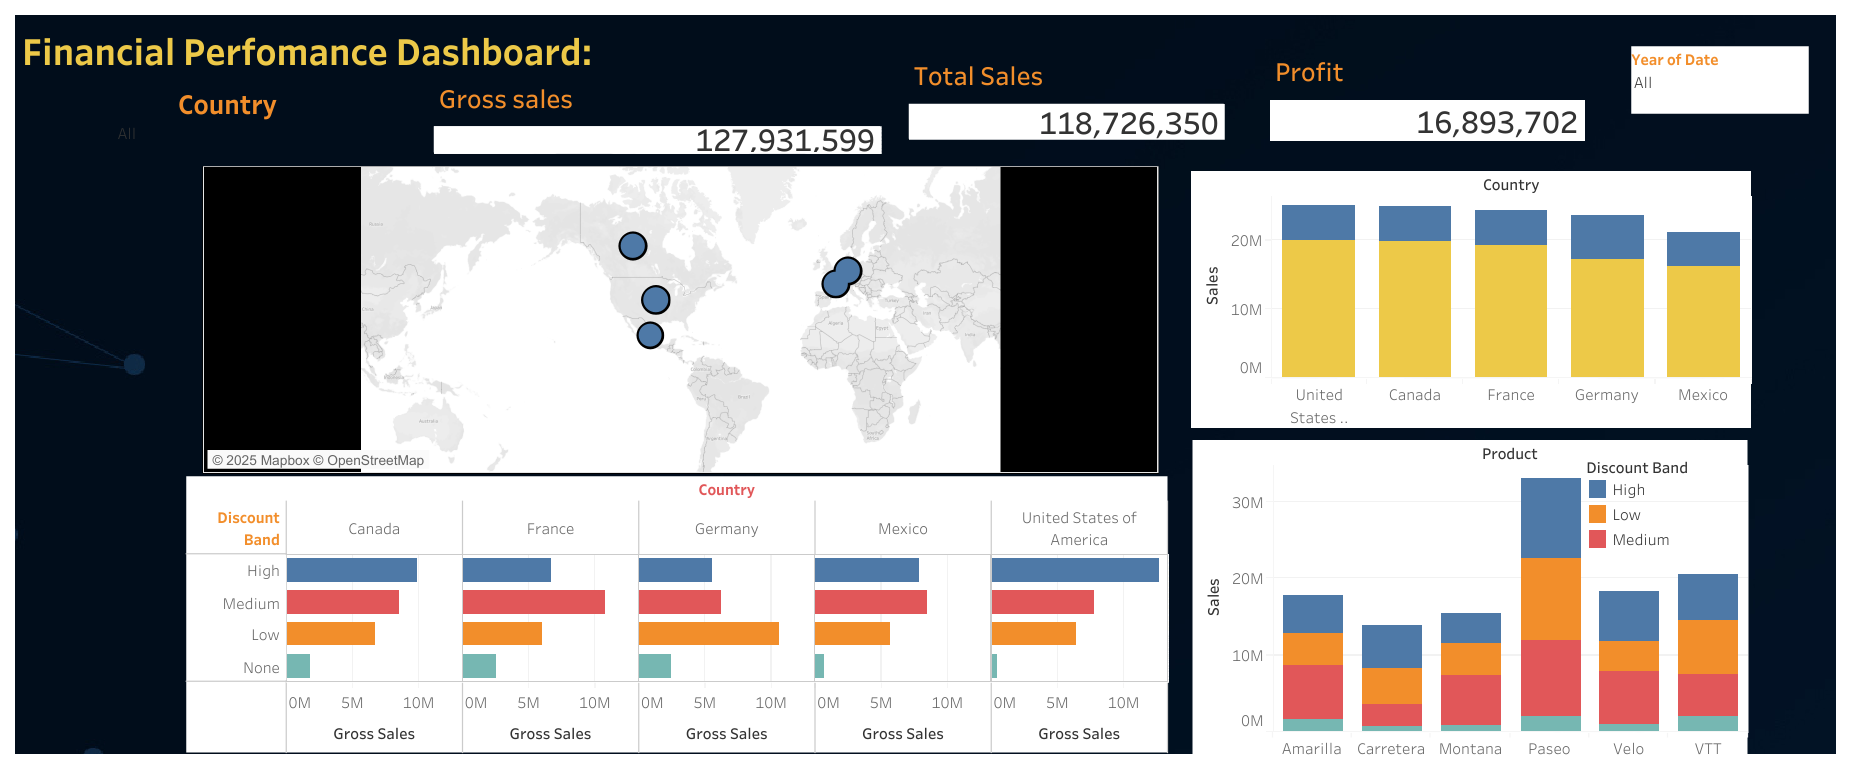

Layout of this report page (visuals, bound fields, positions):
{"tool":"tableau","page":{"name":"Dashboard 1","canvas":[1000,1000],"units":"permille","ordinal":0},"visuals":[{"type":"image","param":"C:/Users/vbhas/Downloads/Lovepik_com-[number redacted]-gorgeous-high-tech-picture.jpg","box":[4.9,10.7,990.2,978.6]},{"type":"text","box":[10.3,12.5,704.3,103.6]},{"type":"worksheet","title":"Sheet 8","mark":"Automatic","box":[686.1,60.2,169.5,121.8]},{"type":"filter","title":"Sheet 1","param":"[federated.129s4ta1b4m01t0zv5n3a1f70xaq].[yr:Date:ok]","box":[880.8,60.2,96.4,88.4]},{"type":"worksheet","title":"Total Sales","mark":"Automatic","box":[490.8,65.6,170.2,115.1]},{"type":"worksheet","title":"Sheet 6","mark":"Automatic","box":[234,93.7,241.4,104.4]},{"type":"filter","title":"Sheet 1","param":"[federated.129s4ta1b4m01t0zv5n3a1f70xaq].[none:Country:nk]","box":[62,108.4,122.2,93.7]},{"type":"worksheet","title":"Sheet 5","mark":"Automatic","box":[109.3,215.5,516.6,400.3]},{"type":"worksheet","title":"Sheet 1","mark":"Automatic","rows":["Sales"],"cols":["Country"],"box":[643.7,223.6,302.2,333.3]},{"type":"worksheet","title":"Sheet 4","mark":"Automatic","rows":["Sales"],"cols":["Product"],"box":[644.4,571.6,300.4,415]},{"type":"legend","title":"Sheet 4","param":"[federated.129s4ta1b4m01t0zv5n3a1f70xaq].[none:Discount Band:nk]","box":[856.3,589,84.2,132.5]},{"type":"worksheet","title":"Sheet 3","mark":"Bar","rows":["Discount Band"],"cols":["Country","Gross Sales"],"box":[100.7,619.8,530.7,361.4]}]}

Visuals, with their boxes on the dashboard's canvas, which has no fixed pixel size, in thousandths of its width and height (x1, y1, x2, y2). These are canvas units, not pixel positions in the 1850x768 screenshot, which may show the page scaled, cropped or inside an application window:
image: {"x1": 5, "y1": 11, "x2": 995, "y2": 989}
text: {"x1": 10, "y1": 12, "x2": 715, "y2": 116}
"Sheet 8" worksheet: {"x1": 686, "y1": 60, "x2": 856, "y2": 182}
"Sheet 1" filter: {"x1": 881, "y1": 60, "x2": 977, "y2": 149}
"Total Sales" worksheet: {"x1": 491, "y1": 66, "x2": 661, "y2": 181}
"Sheet 6" worksheet: {"x1": 234, "y1": 94, "x2": 475, "y2": 198}
"Sheet 1" filter: {"x1": 62, "y1": 108, "x2": 184, "y2": 202}
"Sheet 5" worksheet: {"x1": 109, "y1": 216, "x2": 626, "y2": 616}
"Sheet 1" worksheet: {"x1": 644, "y1": 224, "x2": 946, "y2": 557}
"Sheet 4" worksheet: {"x1": 644, "y1": 572, "x2": 945, "y2": 987}
"Sheet 4" legend: {"x1": 856, "y1": 589, "x2": 940, "y2": 722}
"Sheet 3" worksheet (Bar marks): {"x1": 101, "y1": 620, "x2": 631, "y2": 981}
